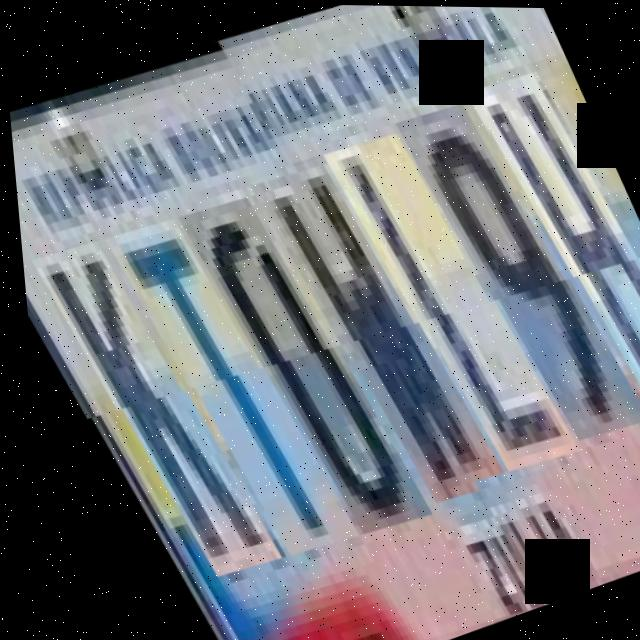0: (172, 179, 414, 548)
9: (396, 91, 638, 459)
H: (468, 58, 640, 443)
K: (26, 226, 264, 593)
L: (322, 121, 569, 492)
T: (99, 201, 341, 570)
W: (244, 145, 491, 516)
